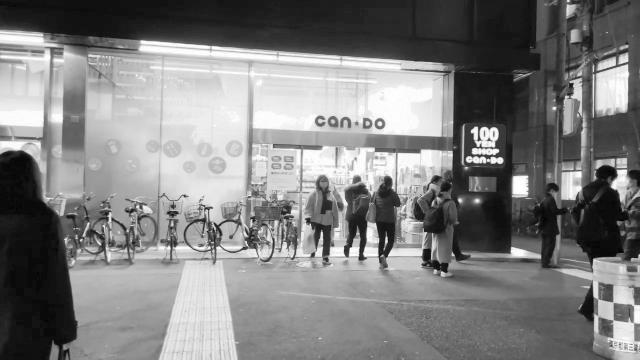berdiri: (576, 162, 630, 320), (419, 174, 457, 280), (537, 178, 561, 268)
